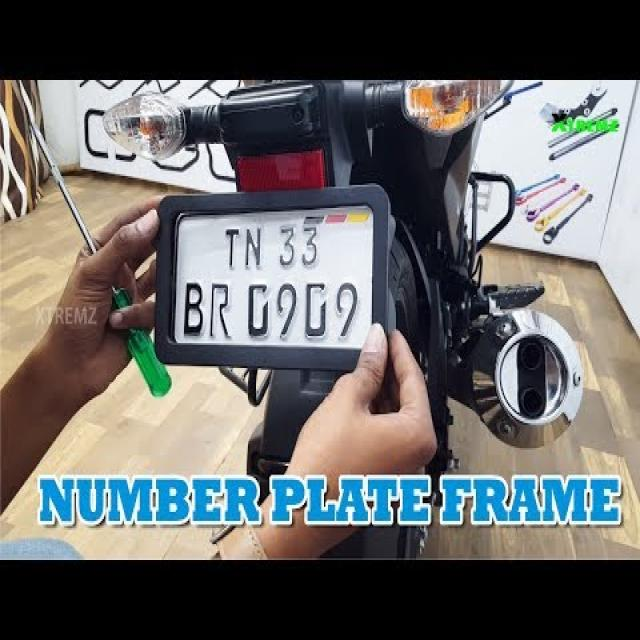plate: (164, 204, 375, 356)
